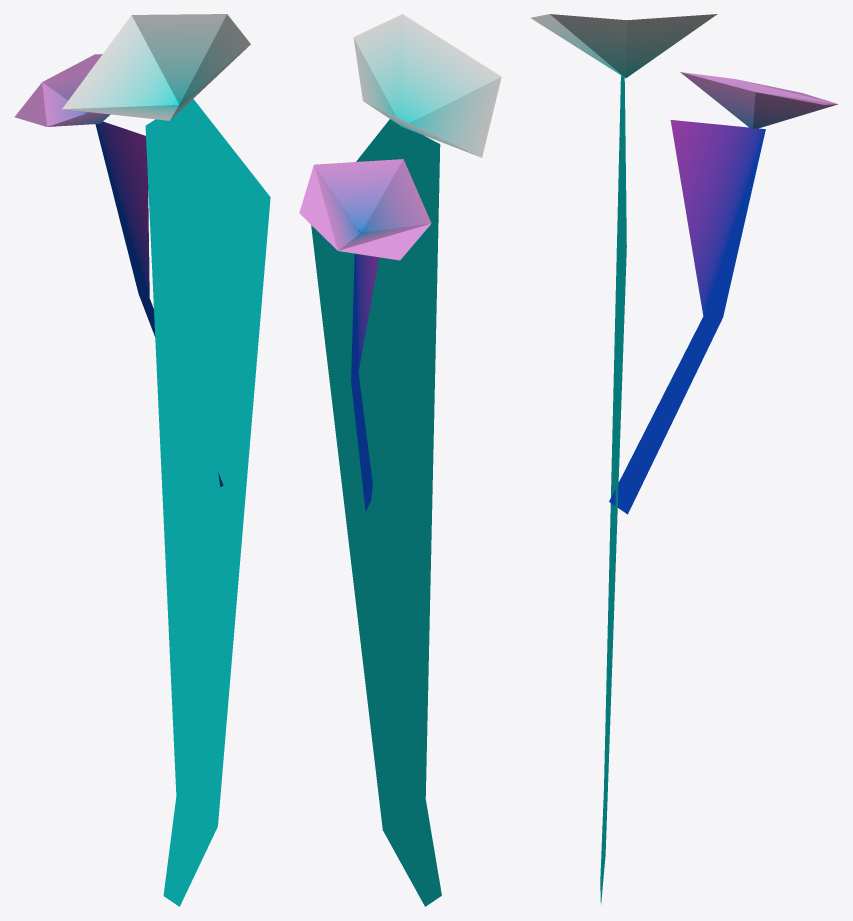
The model's file is Nordic_Coastal_Groundcover_vlqkdeaja_Mid_vlqkdeaja_VarE_LOD1.fbx.
The picture shows the model from 3 angles, left to right: view 1: azimuth 30°, elevation 25°; view 2: azimuth 150°, elevation 25°; view 3: azimuth 270°, elevation 25°; orthographic projection. The views are drawn at different scales.
Visible parts, largest first — view 1: _z3iv_VarE_LOD3; view 2: _z3iv_VarE_LOD3; view 3: _z3iv_VarE_LOD3.
Part boxes in pixels (x1=…): _z3iv_VarE_LOD3: x1=14, y1=14, x2=270, y2=906; _z3iv_VarE_LOD3: x1=299, y1=14, x2=501, y2=906; _z3iv_VarE_LOD3: x1=530, y1=14, x2=838, y2=904.
Size of the model in its own units: 6.32 by 27.51 by 8.39.
